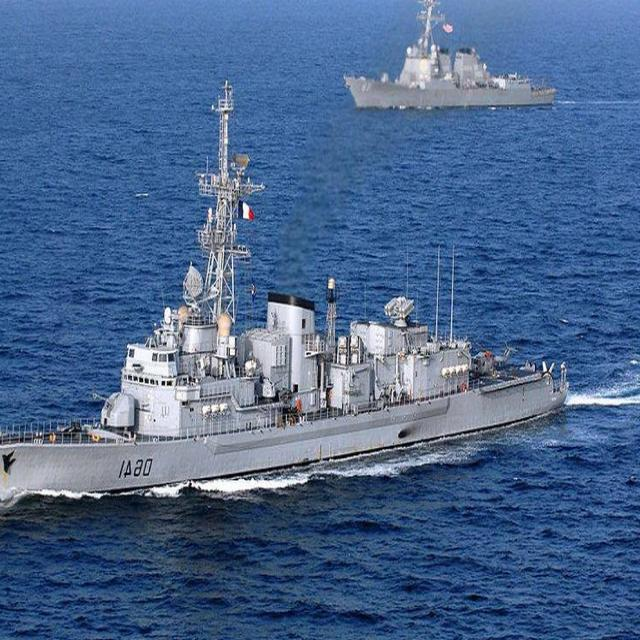navalvessels: (0, 130, 590, 527), (340, 5, 560, 125)
